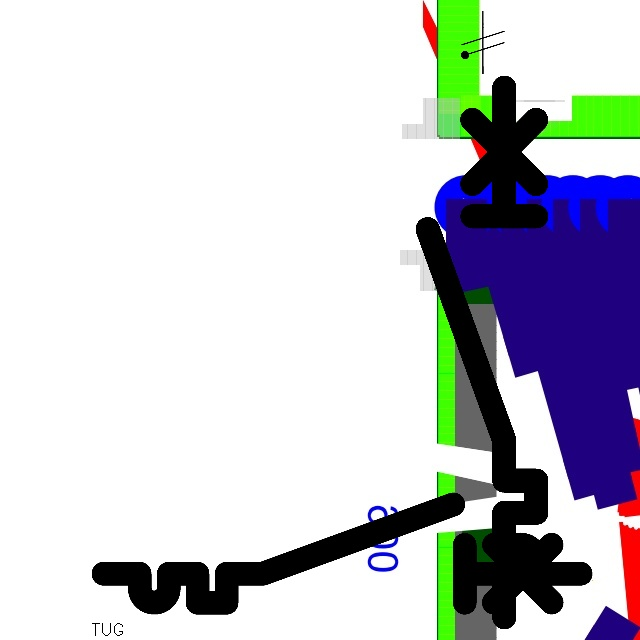interruptor_termomagnetico: (414, 73, 550, 630), (91, 492, 593, 615)
